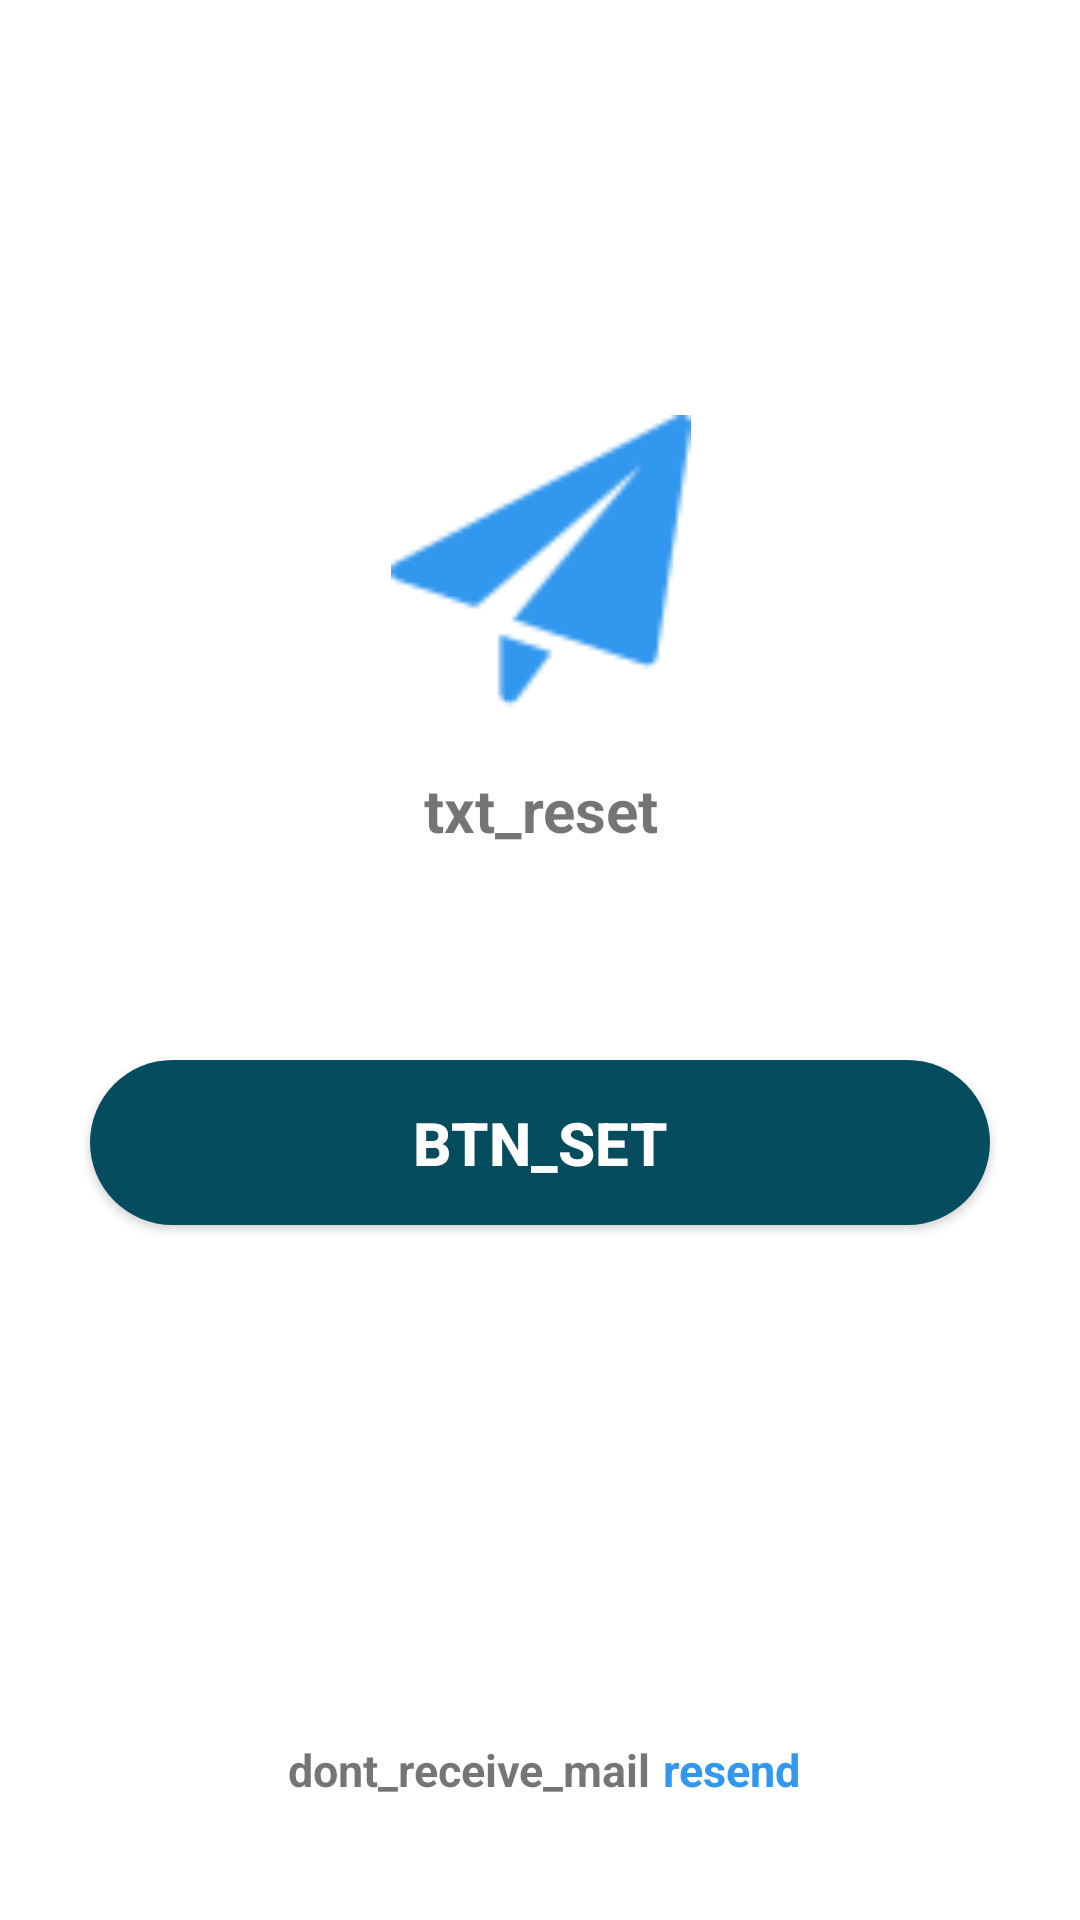

Named icons in this screenshot (1080px x 1920px) and their bounding boxes, Rect(x1, y1, x2, y2):
send: Rect(391, 415, 691, 706)
